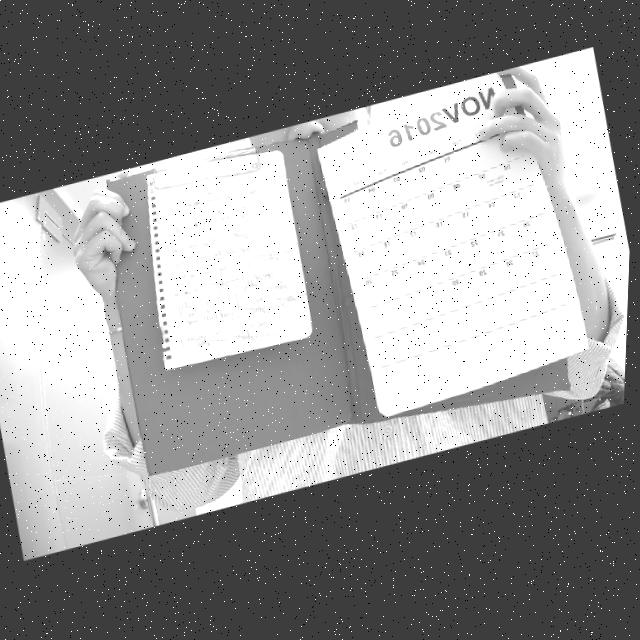document: (317, 72, 589, 418), (145, 149, 311, 370)
